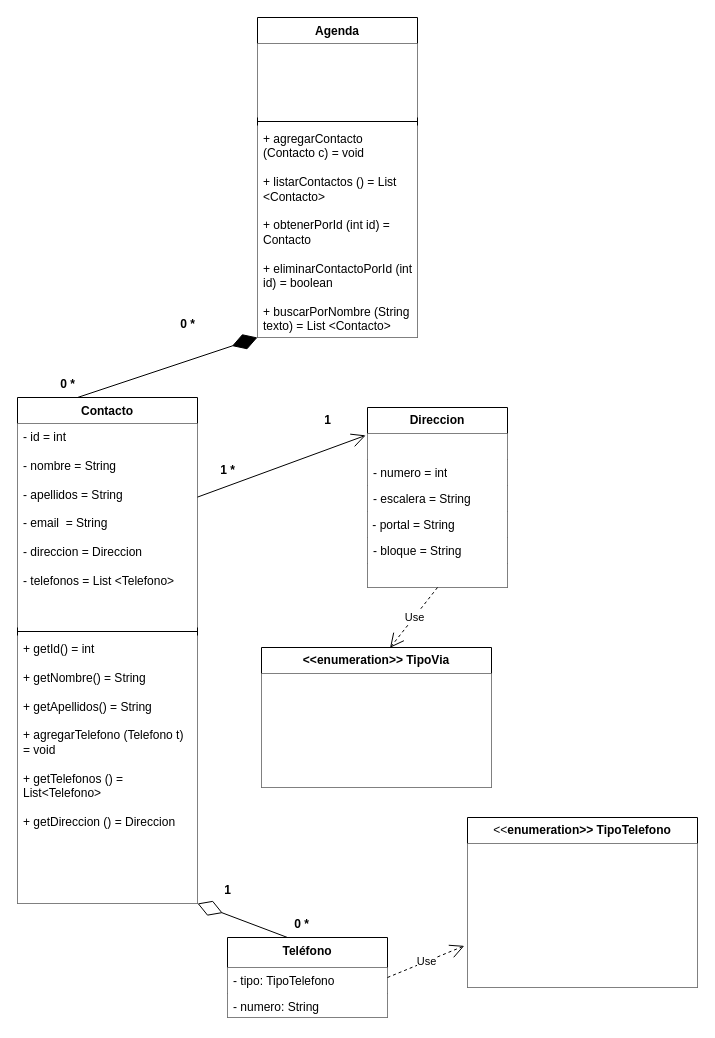
Image size: 715x1038. Some labels were removed from this diagram. The shapes that lost their labels are listed below. From the top down, each one's centre as x and y in pixels, then its label:
At pixel 337 80: "- contactos = List <Contacto> - siguienteID = INT".
At pixel 437 446: "- tipoVia = TipoVia".
At pixel 437 575: "- letra = String".
At pixel 376 730: "CALLE AVENIDA PLAZA CARRETERA".
At pixel 582 915: "CASA TRABAJO PERSONAL MOVIL OTRO".
